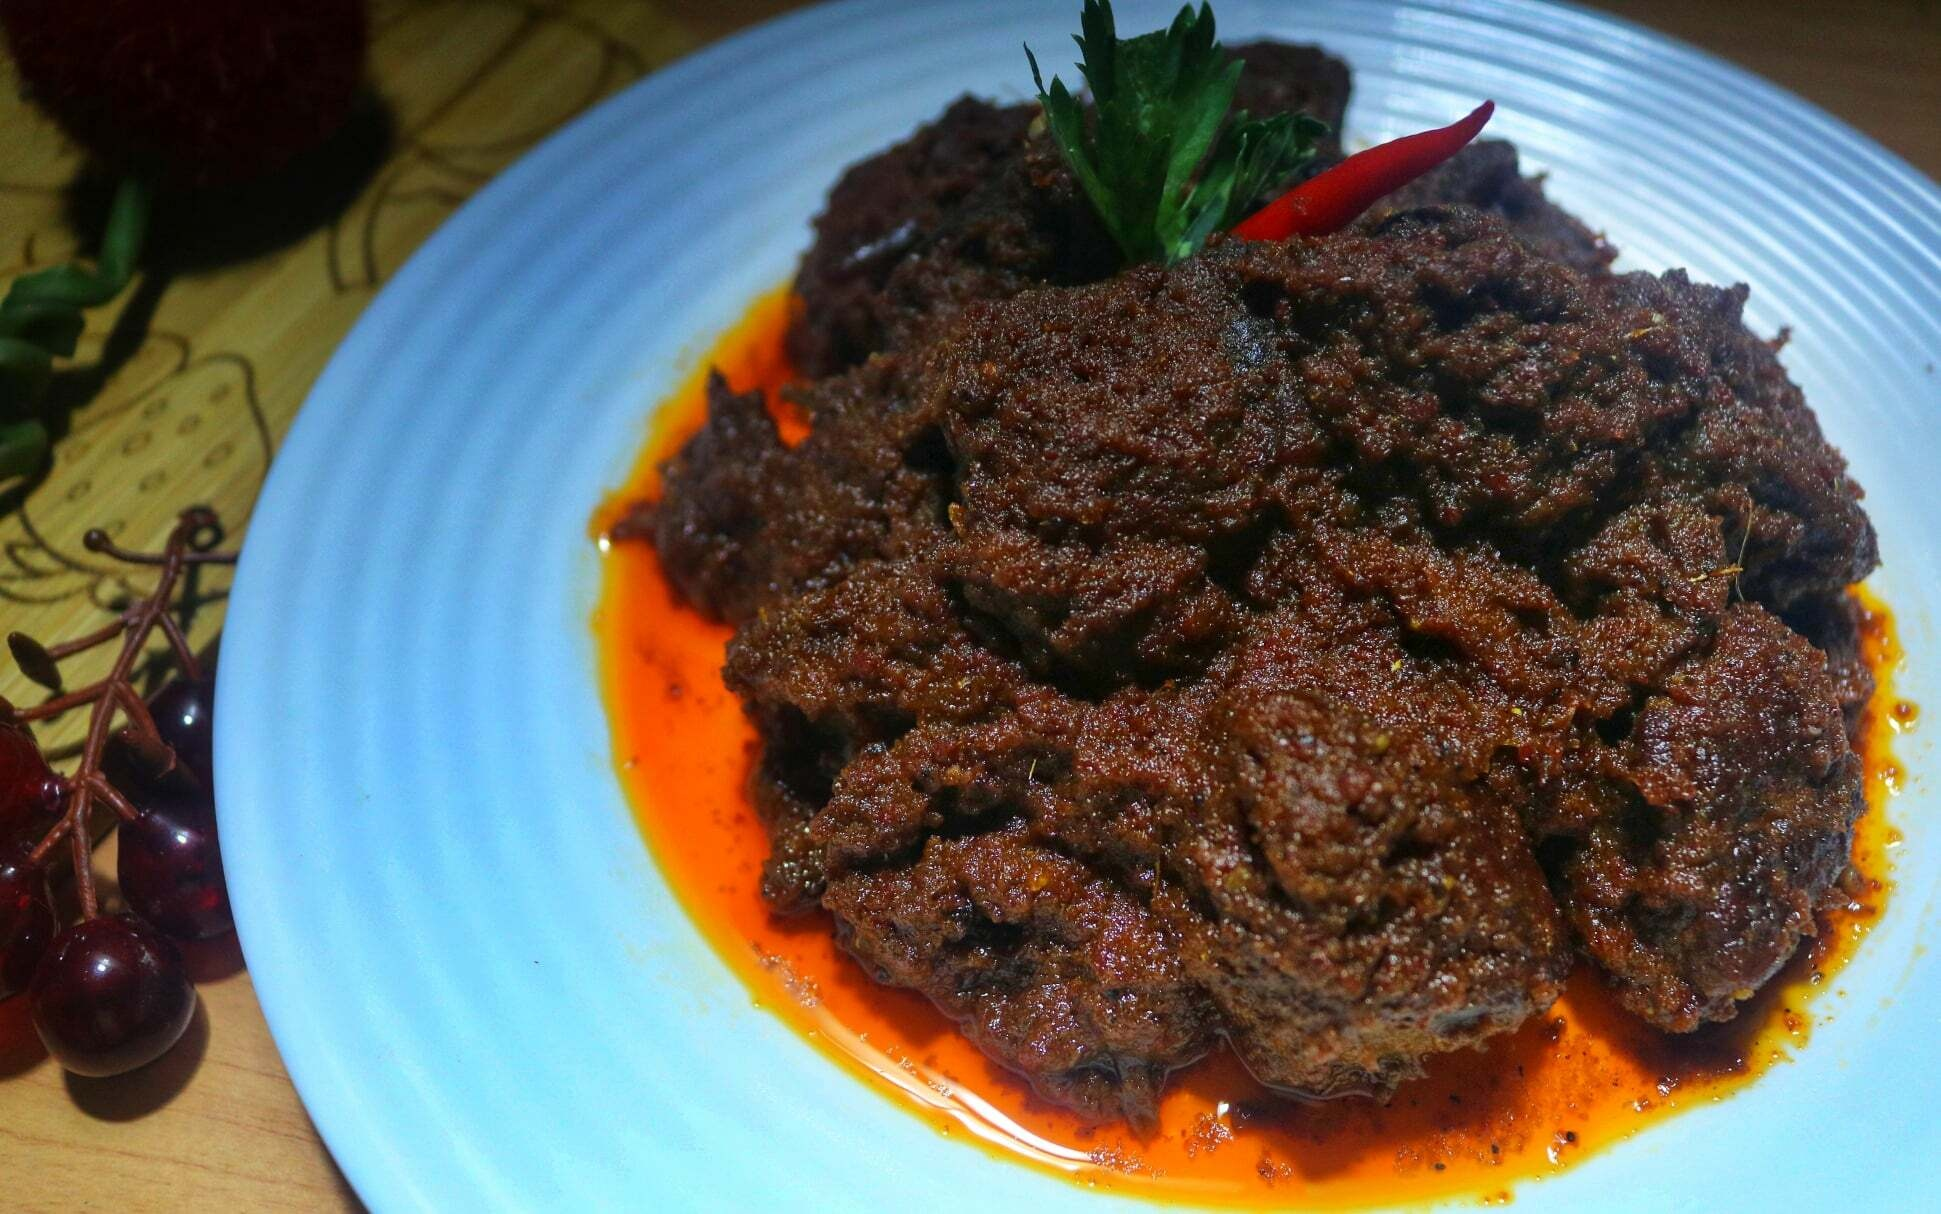rendang: (622, 250, 1870, 1140)
